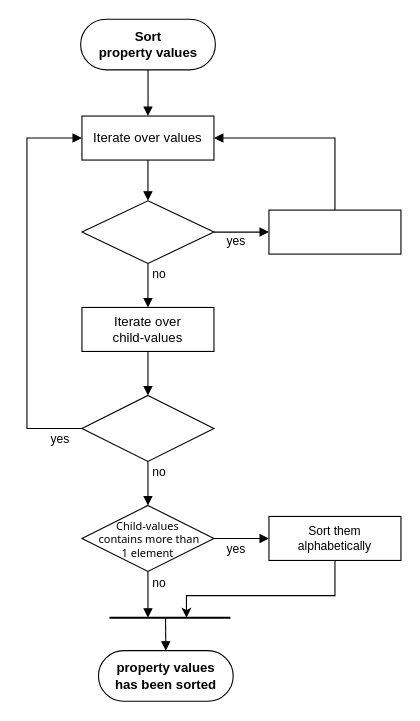
This 420x721 diagram has some shape labels left out. Here are the shapes that lost their labels. From the top down, the box of each, then its label:
(81, 200, 214, 263): current key is distribution
(268, 209, 401, 254): sort distribution key by ID of containing key "HasPid"
(81, 394, 214, 461): Child-value contains entities
